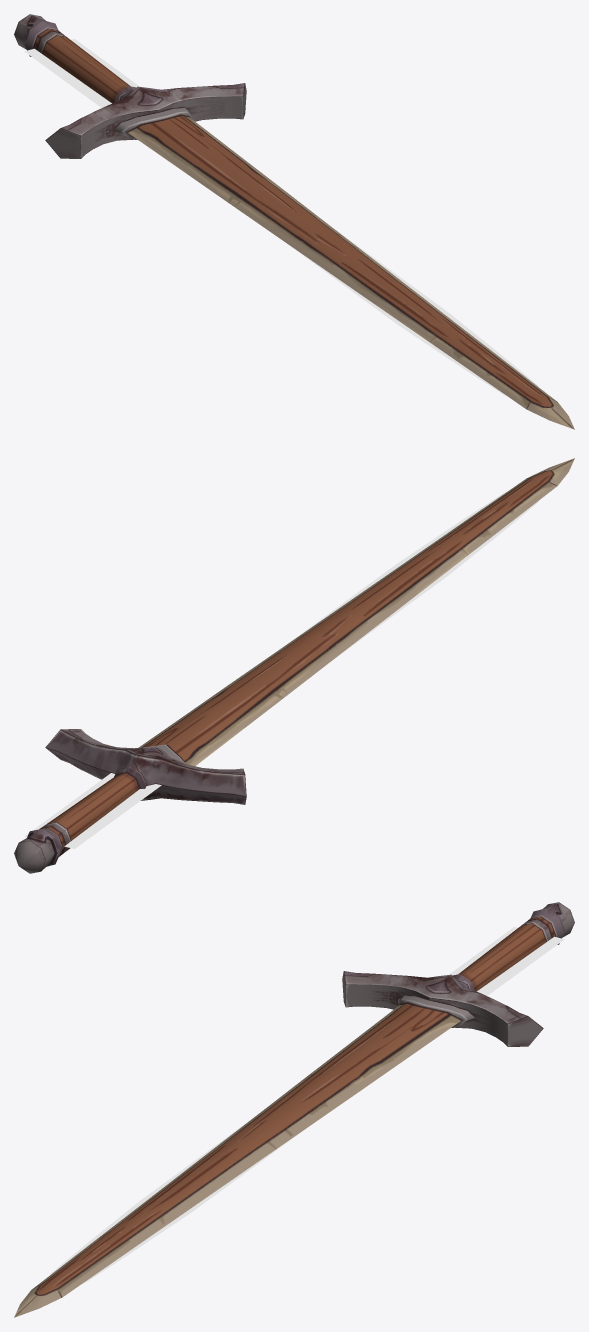
Rendered from Equip_Sword_Wooden_Model.fbx.
The picture shows the model from 3 angles, top to bottom: view 1: azimuth 30°, elevation 25°; view 2: azimuth 150°, elevation 25°; view 3: azimuth 330°, elevation 25°; orthographic projection.
Visible parts, largest first — view 1: Equip_Sword_Wooden_Model, Equip_Sword_Wooden_Effect; view 2: Equip_Sword_Wooden_Model, Equip_Sword_Wooden_Effect; view 3: Equip_Sword_Wooden_Model, Equip_Sword_Wooden_Effect.
Boxes of the visible parts, <box> form: Equip_Sword_Wooden_Model: <box>14,14,574,429</box>; Equip_Sword_Wooden_Effect: <box>24,39,538,395</box>; Equip_Sword_Wooden_Model: <box>14,458,574,873</box>; Equip_Sword_Wooden_Effect: <box>24,492,538,848</box>; Equip_Sword_Wooden_Model: <box>14,902,574,1317</box>; Equip_Sword_Wooden_Effect: <box>50,927,564,1283</box>.
Bounding box in the file's own units: 0.2008 × 0.0441 × 0.961.
